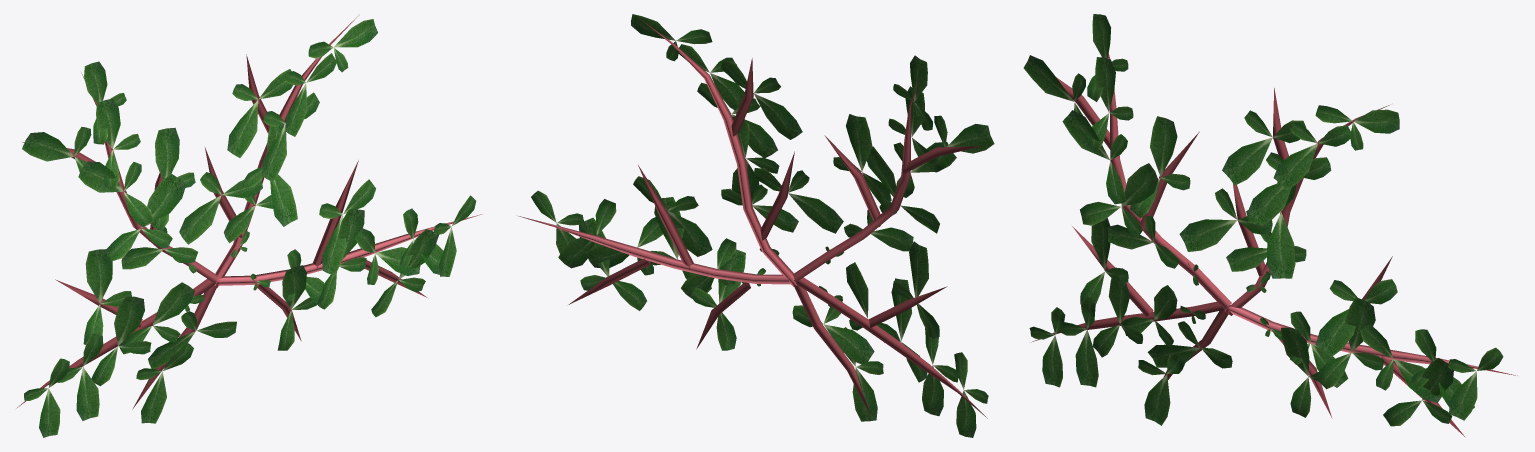
File: portucala_01.obj
3 renders of one model, left to right at view 1: azimuth 30°, elevation 25°; view 2: azimuth 150°, elevation 25°; view 3: azimuth 330°, elevation 25°, orthographic. The views are drawn at different scales.
Visible parts, largest first — view 1: portucala; view 2: portucala; view 3: portucala.
Boxes of the visible parts, x1,y1,x2,y2 form: portucala: (16, 14, 482, 437); portucala: (518, 14, 994, 437); portucala: (1023, 14, 1517, 437).
Size of the model in its own units: 0.3959 by 0.3022 by 0.0405.
Materials: 1 (1 with a texture image).
